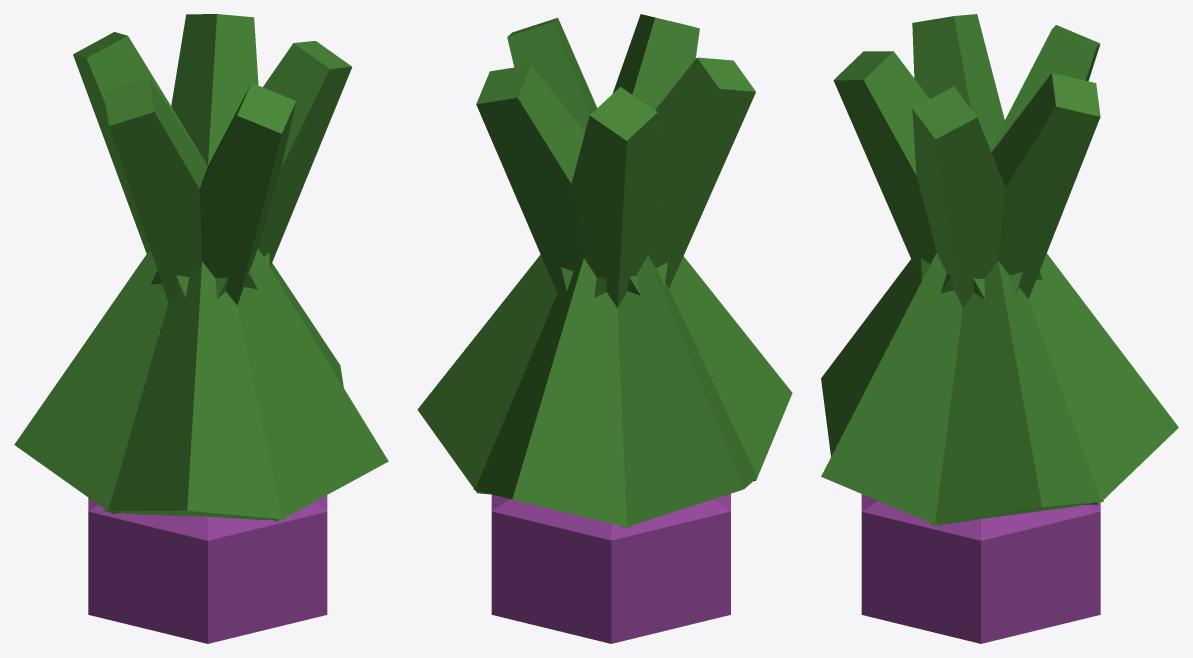
Rendered from turnip_1.glb.
3 renders of one model, left to right at view 1: azimuth 30°, elevation 25°; view 2: azimuth 150°, elevation 25°; view 3: azimuth 270°, elevation 25°, orthographic.
Parts seen in each view (by area): view 1: plant; view 2: plant; view 3: plant.
Boxes of the visible parts, <box> form: plant: <box>14,14,388,643</box>; plant: <box>417,14,792,643</box>; plant: <box>821,14,1178,643</box>.
Size of the model in its own units: 0.1654 by 0.2842 by 0.1573.
